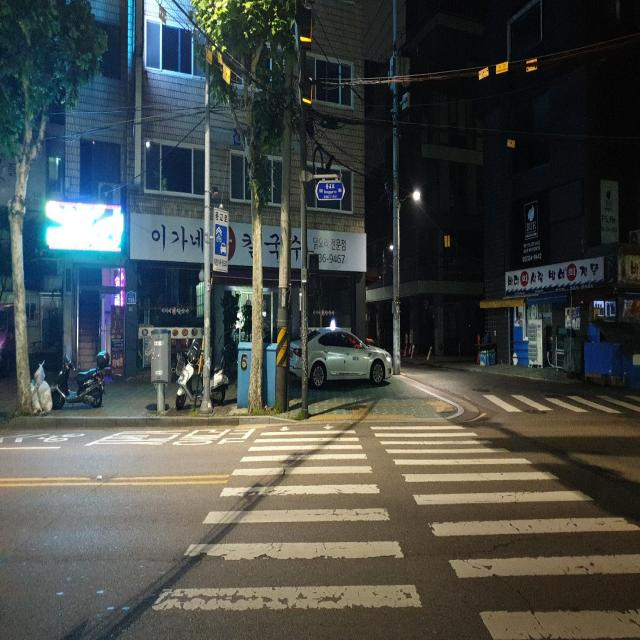횡단보도: (149, 419, 639, 640), (482, 389, 640, 418)
